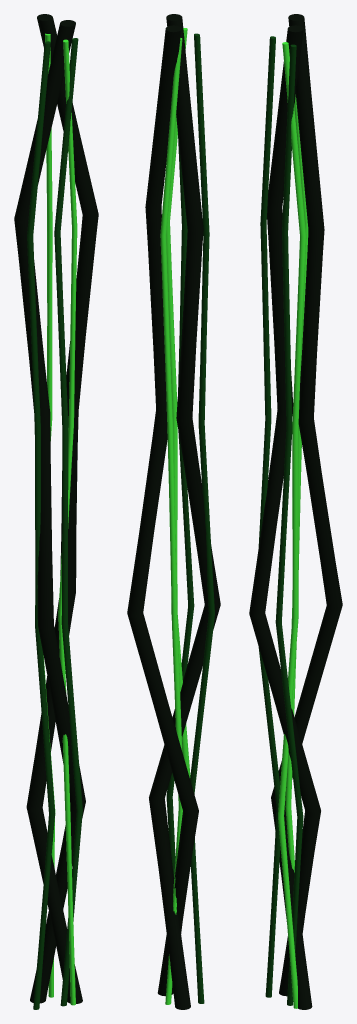
Rendered from Model_Vines2.FBX.
3 views of the same model, side by side, from view 1: azimuth 30°, elevation 25°; view 2: azimuth 150°, elevation 25°; view 3: azimuth 330°, elevation 25° (orthographic).
Parts seen in each view (by area): view 1: Cylinder001, Cylinder005, Cylinder006, Cylinder002, Cylinder004, Cylinder003; view 2: Cylinder001, Cylinder005, Cylinder002, Cylinder003, Cylinder006, Cylinder004; view 3: Cylinder005, Cylinder001, Cylinder006, Cylinder004, Cylinder002, Cylinder003.
Boxes of the visible parts, x1=… form: Cylinder001: x1=14, y1=20, x2=85, y2=1003; Cylinder005: x1=26, y1=14, x2=98, y2=1003; Cylinder006: x1=54, y1=38, x2=82, y2=1006; Cylinder002: x1=27, y1=41, x2=55, y2=1009; Cylinder004: x1=58, y1=39, x2=77, y2=1005; Cylinder003: x1=35, y1=33, x2=55, y2=997; Cylinder001: x1=149, y1=14, x2=220, y2=1009; Cylinder005: x1=127, y1=25, x2=198, y2=996; Cylinder002: x1=190, y1=33, x2=214, y2=1003; Cylinder003: x1=160, y1=38, x2=182, y2=1004; Cylinder006: x1=166, y1=135, x2=194, y2=878; Cylinder004: x1=166, y1=28, x2=190, y2=777; Cylinder005: x1=271, y1=14, x2=342, y2=1009; Cylinder001: x1=249, y1=25, x2=320, y2=996; Cylinder006: x1=275, y1=44, x2=303, y2=1005; Cylinder004: x1=278, y1=42, x2=306, y2=1008; Cylinder002: x1=258, y1=36, x2=280, y2=997; Cylinder003: x1=285, y1=94, x2=308, y2=872.
Bounding box in the file's own units: 10.36 × 140 × 9.3.
